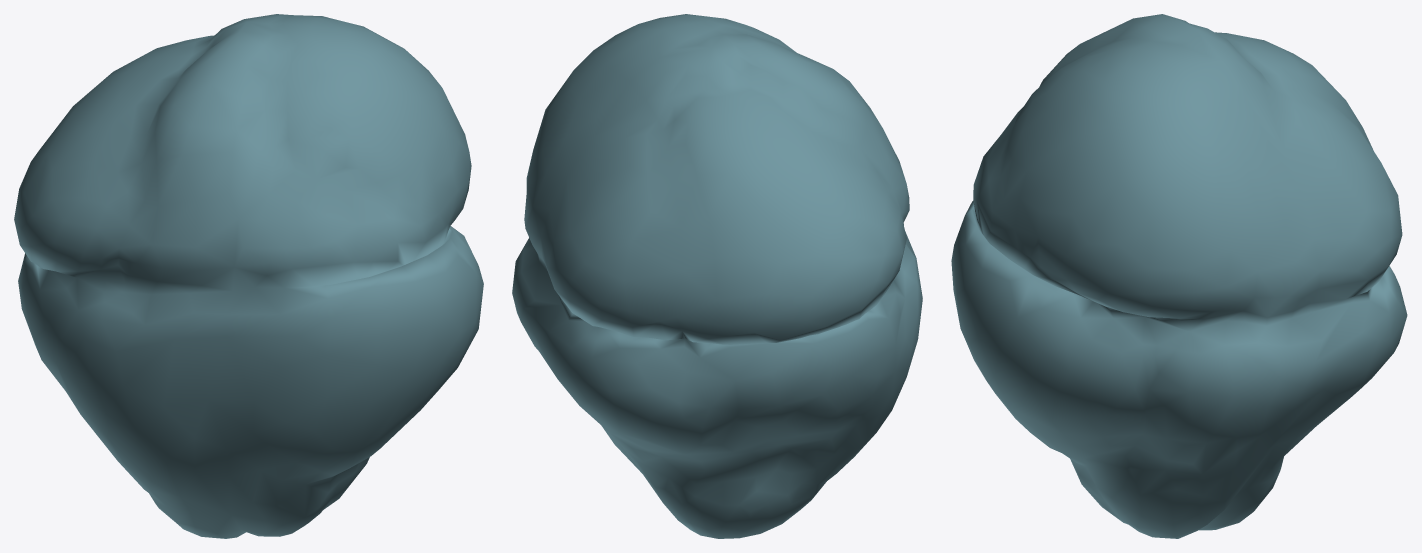
The model's file is env_primalcave_rocks_blob01.fbx.
3 renders of one model, left to right at view 1: azimuth 30°, elevation 25°; view 2: azimuth 150°, elevation 25°; view 3: azimuth 270°, elevation 25°, orthographic. The views are drawn at different scales.
Parts seen in each view (by area): view 1: env_excavation_underground_sticky_blockout_blob01; view 2: env_excavation_underground_sticky_blockout_blob01; view 3: env_excavation_underground_sticky_blockout_blob01.
Boxes of the visible parts, x1,y1,x2,y2 form: env_excavation_underground_sticky_blockout_blob01: [14, 14, 483, 538]; env_excavation_underground_sticky_blockout_blob01: [512, 14, 922, 538]; env_excavation_underground_sticky_blockout_blob01: [951, 14, 1407, 538].
Bounding box in the file's own units: 20.57 × 25.48 × 20.78.
